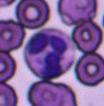N: (24, 28, 75, 79)
